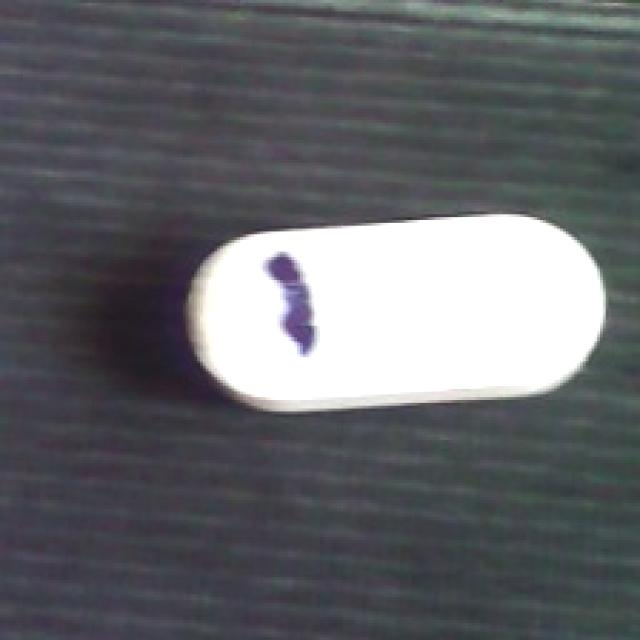defected: (172, 209, 612, 414)
